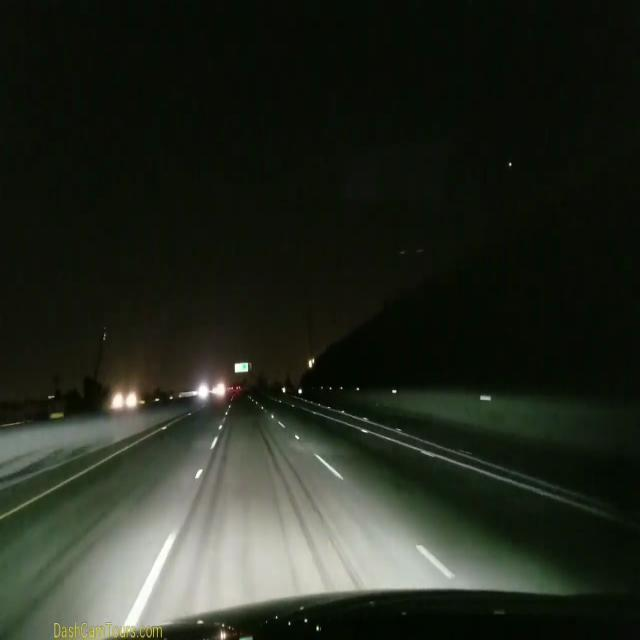street-signs: (234, 362, 249, 373)
